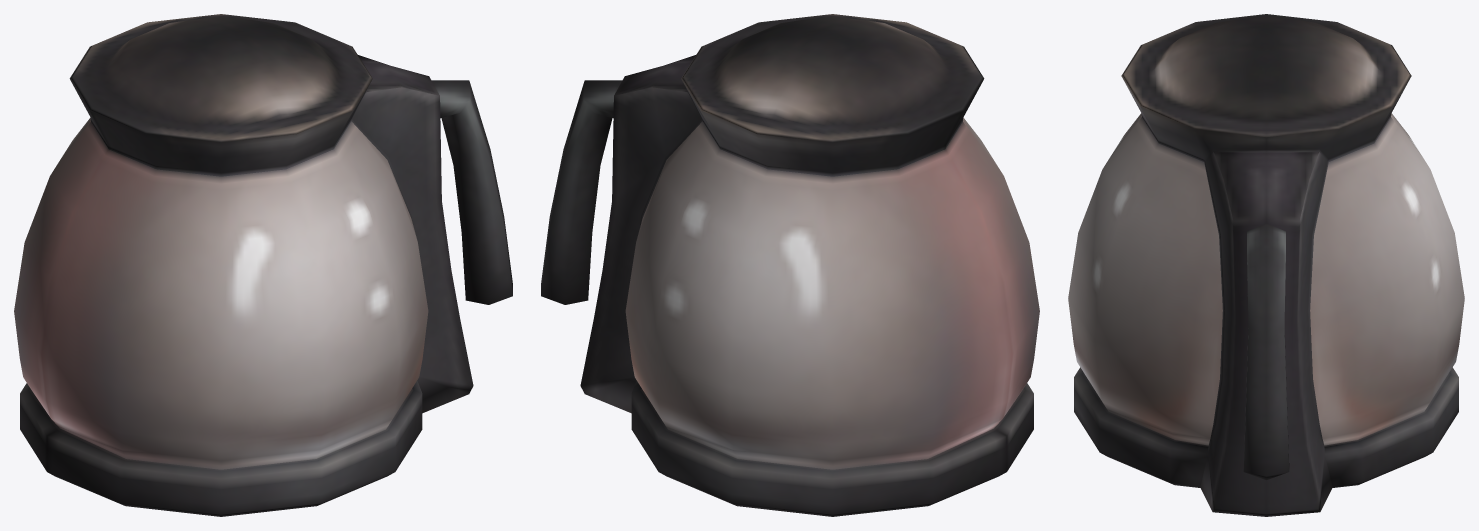
The model's file is ShenMiRenJia_01_kafeihu_01_uv2.fbx.
The picture shows the model from 3 angles, left to right: view 1: azimuth 30°, elevation 25°; view 2: azimuth 150°, elevation 25°; view 3: azimuth 270°, elevation 25°; orthographic projection. The views are drawn at different scales.
Visible parts, largest first — view 1: ShenMiRenJia_01_kafeihu_01; view 2: ShenMiRenJia_01_kafeihu_01; view 3: ShenMiRenJia_01_kafeihu_01.
Boxes of the visible parts, box(x1,y1,x2,y2) form: ShenMiRenJia_01_kafeihu_01: box(14, 14, 512, 516); ShenMiRenJia_01_kafeihu_01: box(541, 14, 1039, 516); ShenMiRenJia_01_kafeihu_01: box(1068, 14, 1464, 516).
Size of the model in its own units: 155 by 126 by 118.
